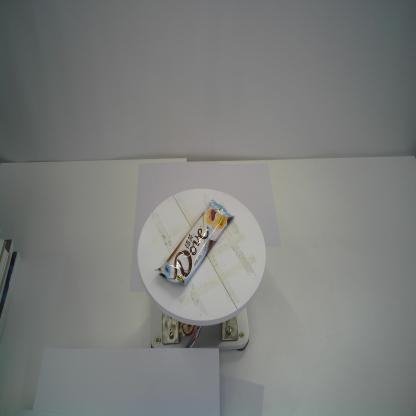Chocolate: (154, 198, 234, 285)
